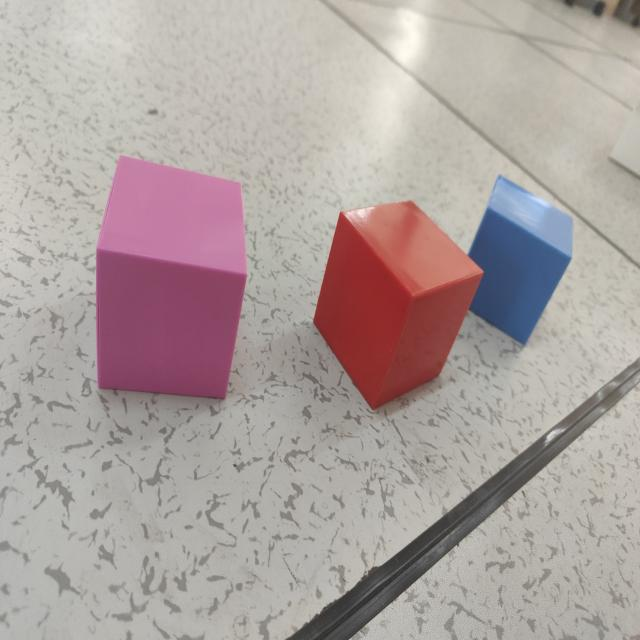blue: (470, 175, 575, 347)
pink: (95, 157, 248, 402)
red: (313, 202, 483, 412)
